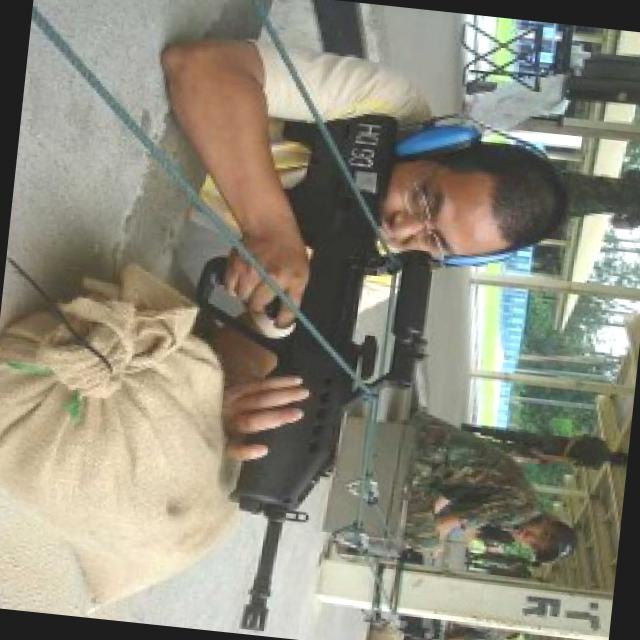long weapon: (153, 202, 447, 639)
